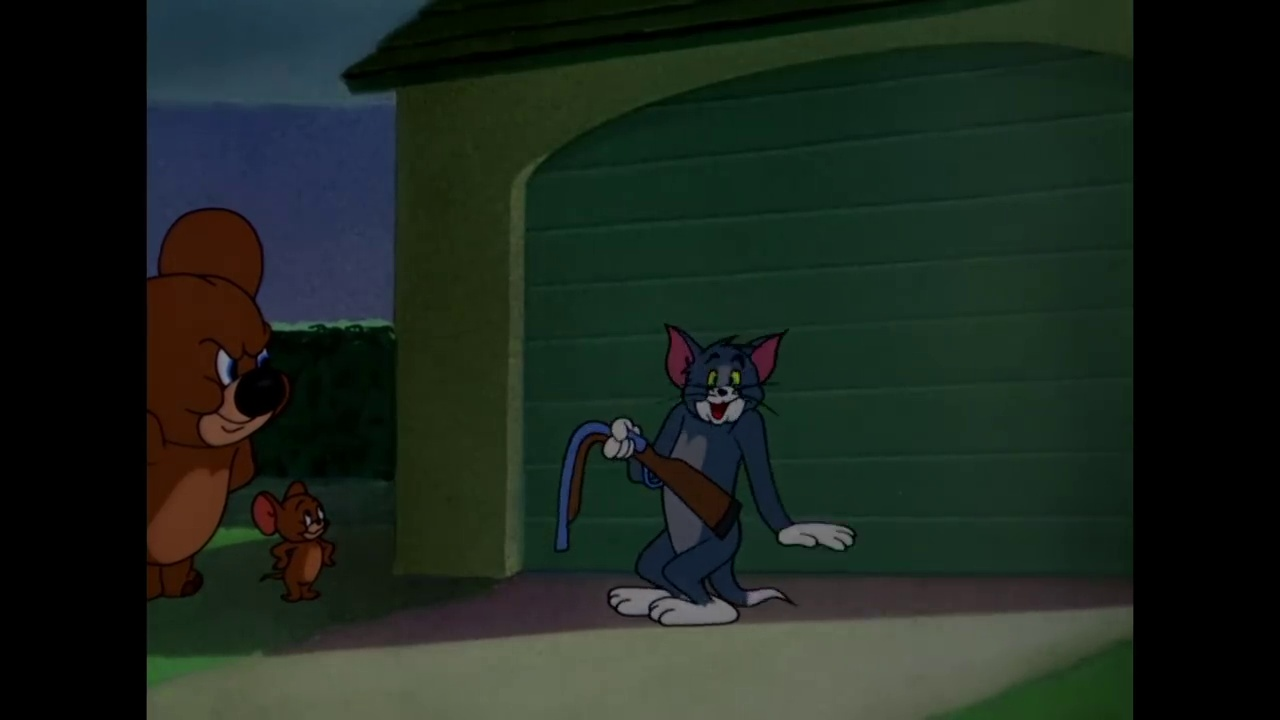tom: (655, 320, 783, 432)
